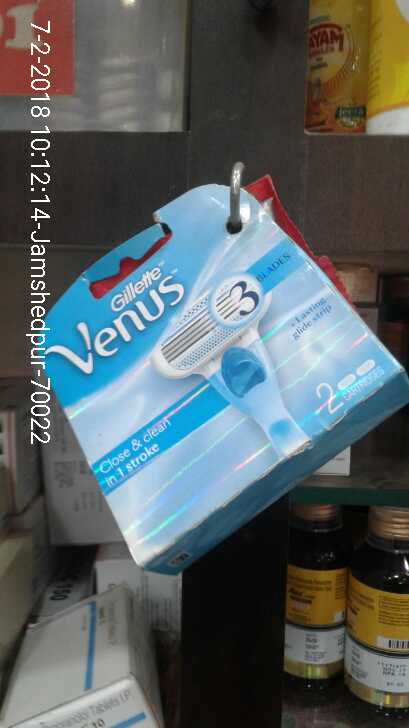venus: (43, 219, 405, 569)
